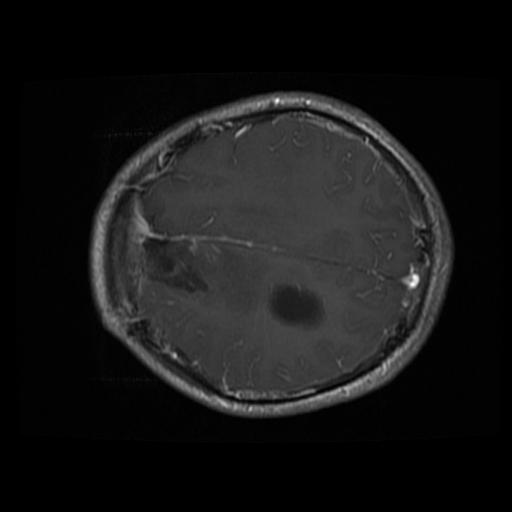glioma: (265, 281, 327, 330)
